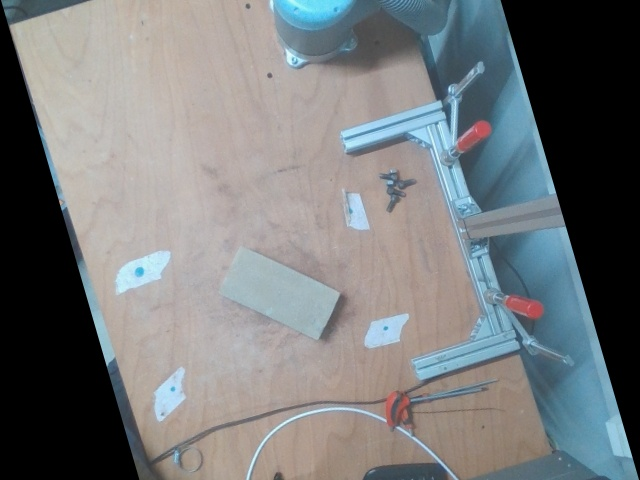brick: (219, 247, 337, 336)
